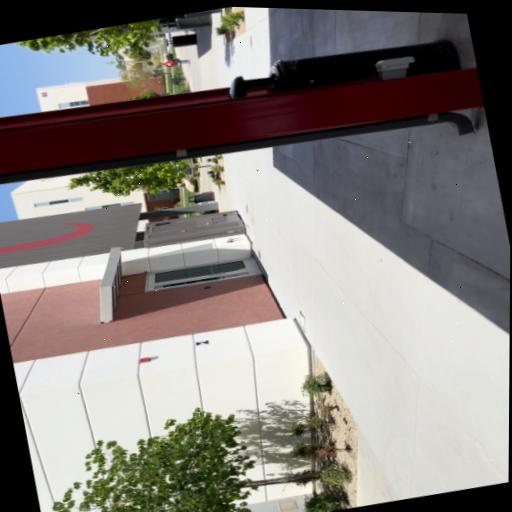target2: (196, 339, 209, 346)
